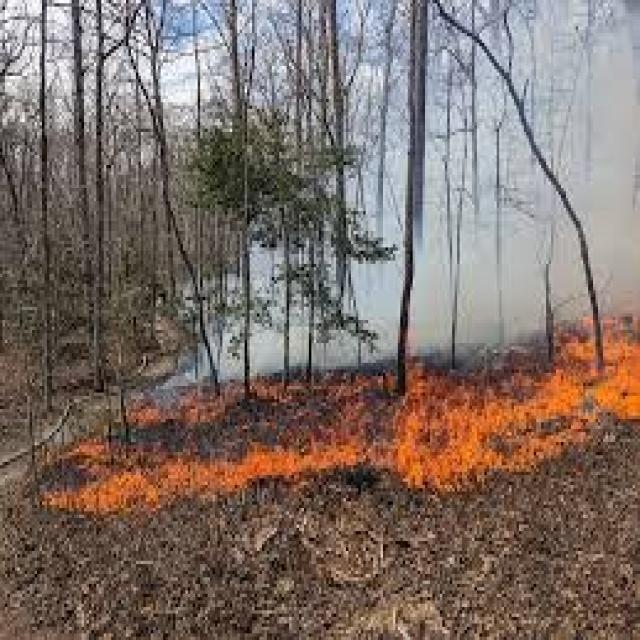Fire: (31, 423, 387, 528), (386, 378, 604, 488), (566, 315, 640, 435)
Smoke: (337, 144, 640, 377), (455, 6, 640, 335)
